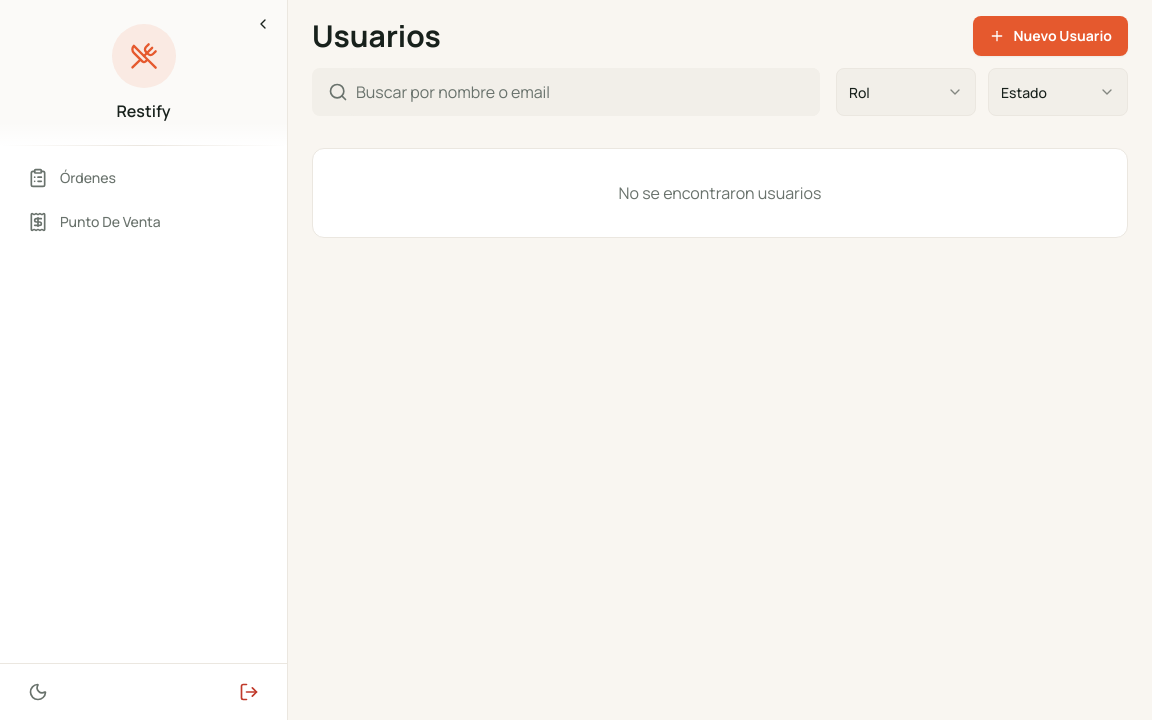
Test: UsersPage (integración) › abre el modal de crear usuario al hacer clic en Nuevo Usuario
Expected: the heading "Usuarios" is shown, x1=312 y1=18 x2=441 y2=54
What coordinates should you click on to do the following:
click the button "Nuevo Usuario"
I would click on:
 (1051, 36)
Its box is x1=974 y1=16 x2=1128 y2=56.
(page scrolled)
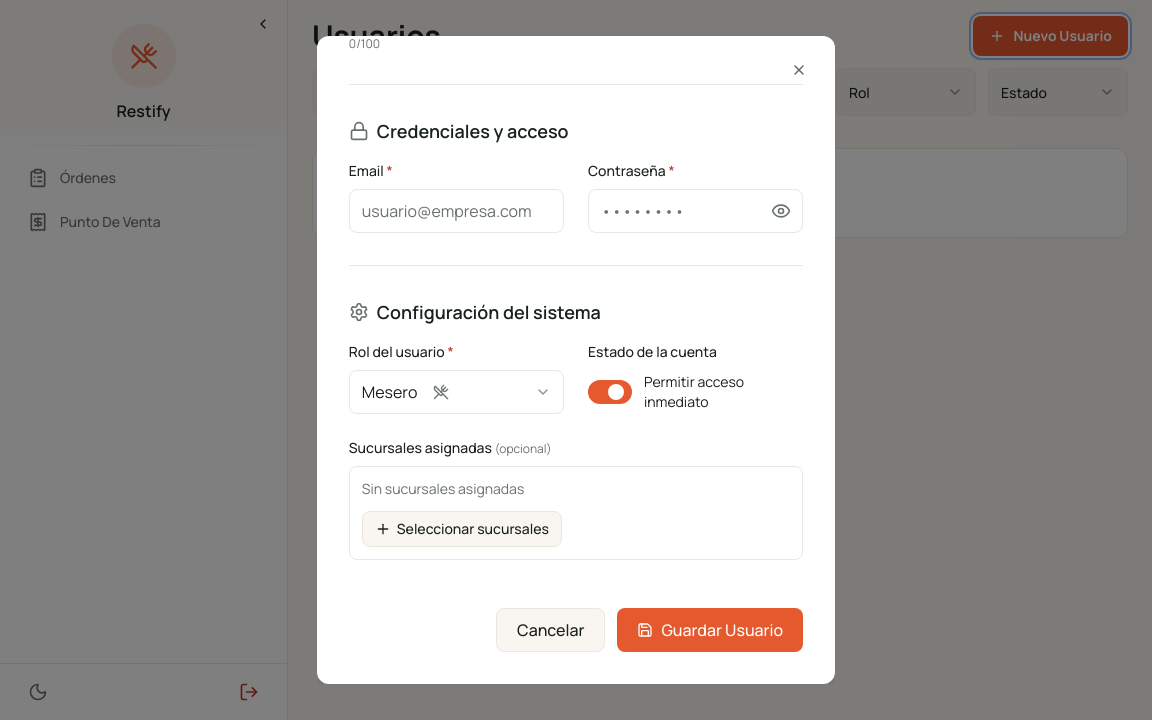
Expected: the button "Guardar Usuario" is shown, x1=617 y1=608 x2=803 y2=652
Expected: the button "Cancelar" is shown, x1=496 y1=608 x2=605 y2=652
